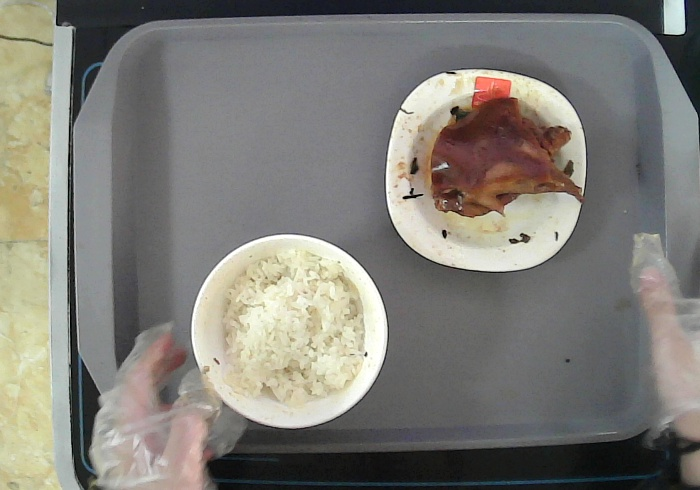SHKJ-Bai_Se_Si_Fang_Cai_Die: (385, 70, 588, 272)
SHKJ-Fan_Wan: (190, 234, 389, 429)
